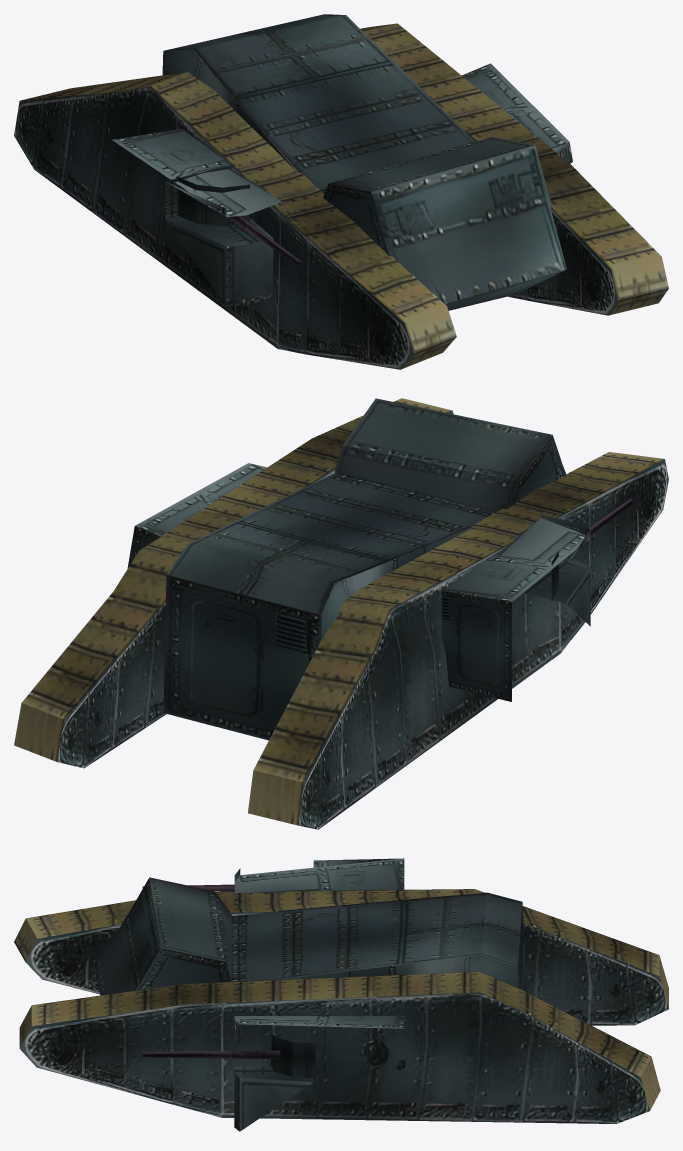
The model's file is tankburn.gltf.
The picture shows the model from 3 angles, top to bottom: view 1: azimuth 30°, elevation 25°; view 2: azimuth 150°, elevation 25°; view 3: azimuth 270°, elevation 25°; orthographic projection. The views are drawn at different scales.
Parts seen in each view (by area): view 1: tankburn_atomic0; view 2: tankburn_atomic0; view 3: tankburn_atomic0.
Part boxes in pixels (x1,y1,x2,y2): tankburn_atomic0: (14, 14, 668, 369); tankburn_atomic0: (14, 398, 668, 829); tankburn_atomic0: (14, 858, 668, 1131).
Size of the model in its own units: 24.72 by 10.52 by 41.57.
3 materials, 3 textured.
